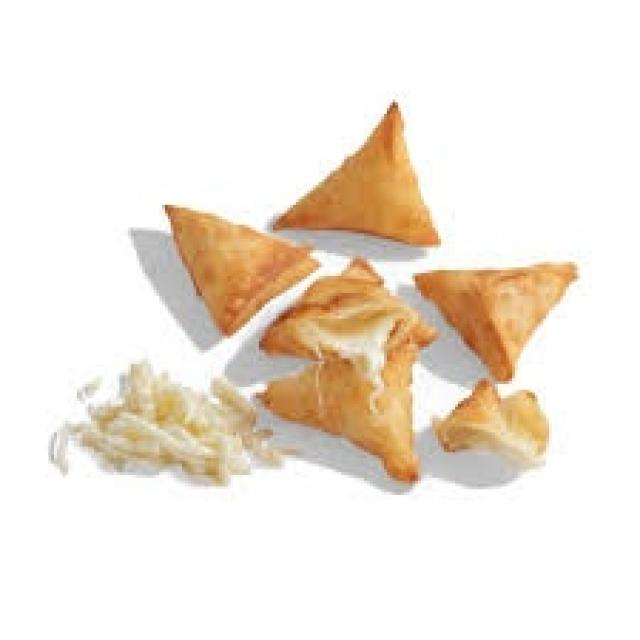Samboosa: (87, 81, 640, 552)
